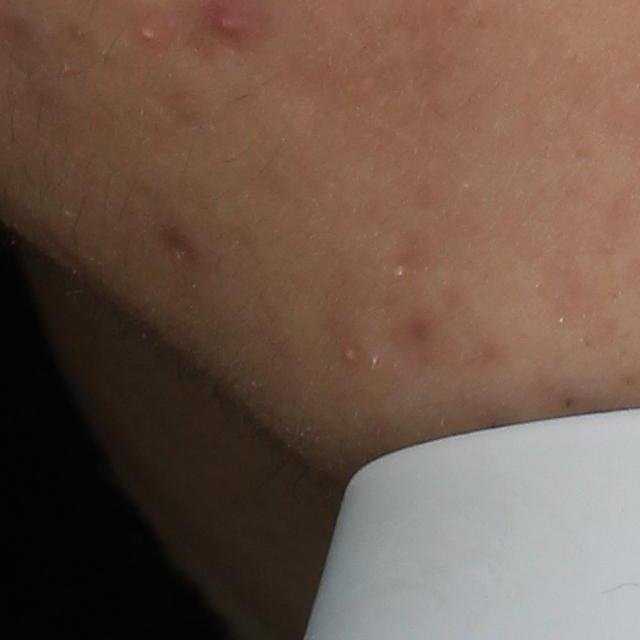papule: (209, 1, 251, 42)
